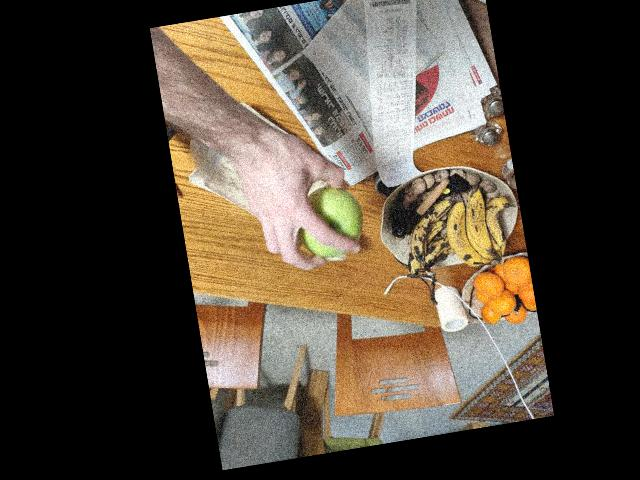apple: (291, 179, 367, 265)
